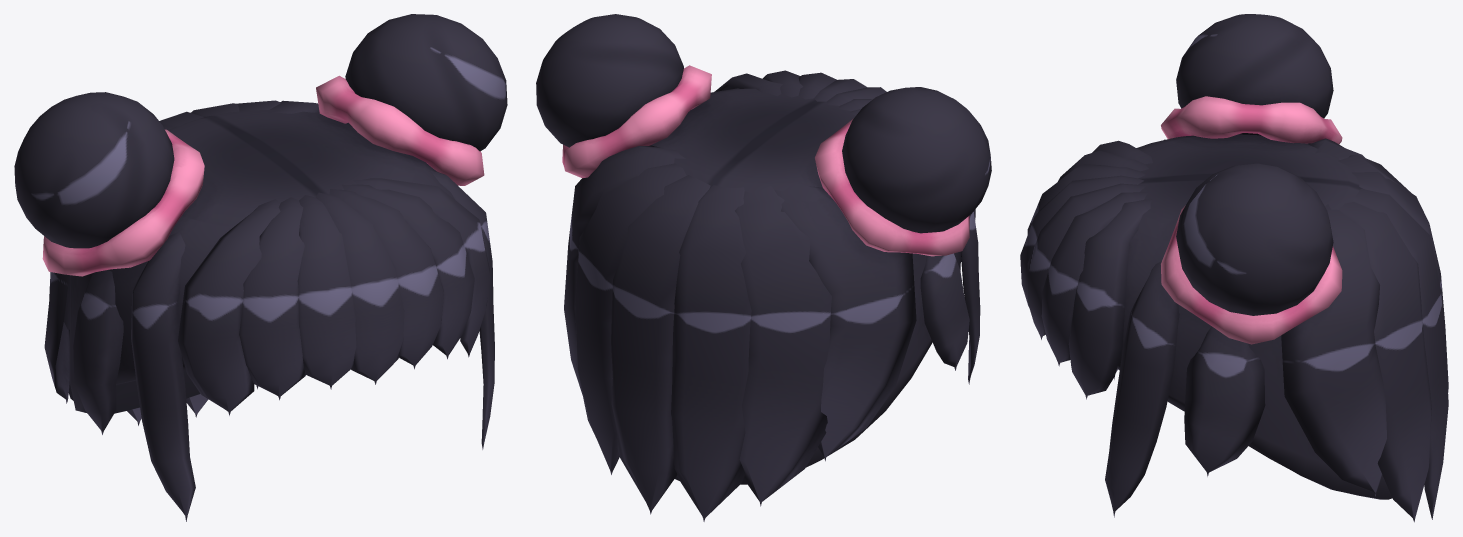
File: KawaiiSpaceBuns_Noir.fbx
3 views of the same model, side by side, from view 1: azimuth 30°, elevation 25°; view 2: azimuth 150°, elevation 25°; view 3: azimuth 270°, elevation 25° (orthographic). The views are drawn at different scales.
Visible parts, largest first — view 1: KawaiiSpaceBuns; view 2: KawaiiSpaceBuns; view 3: KawaiiSpaceBuns.
Part boxes in pixels (bbox=[...]): KawaiiSpaceBuns: bbox=[14, 14, 507, 521]; KawaiiSpaceBuns: bbox=[536, 14, 991, 521]; KawaiiSpaceBuns: bbox=[1020, 14, 1448, 522].
Bounding box in the file's own units: 1.72 × 1.51 × 1.42.
Materials: 1 (1 with a texture image).
